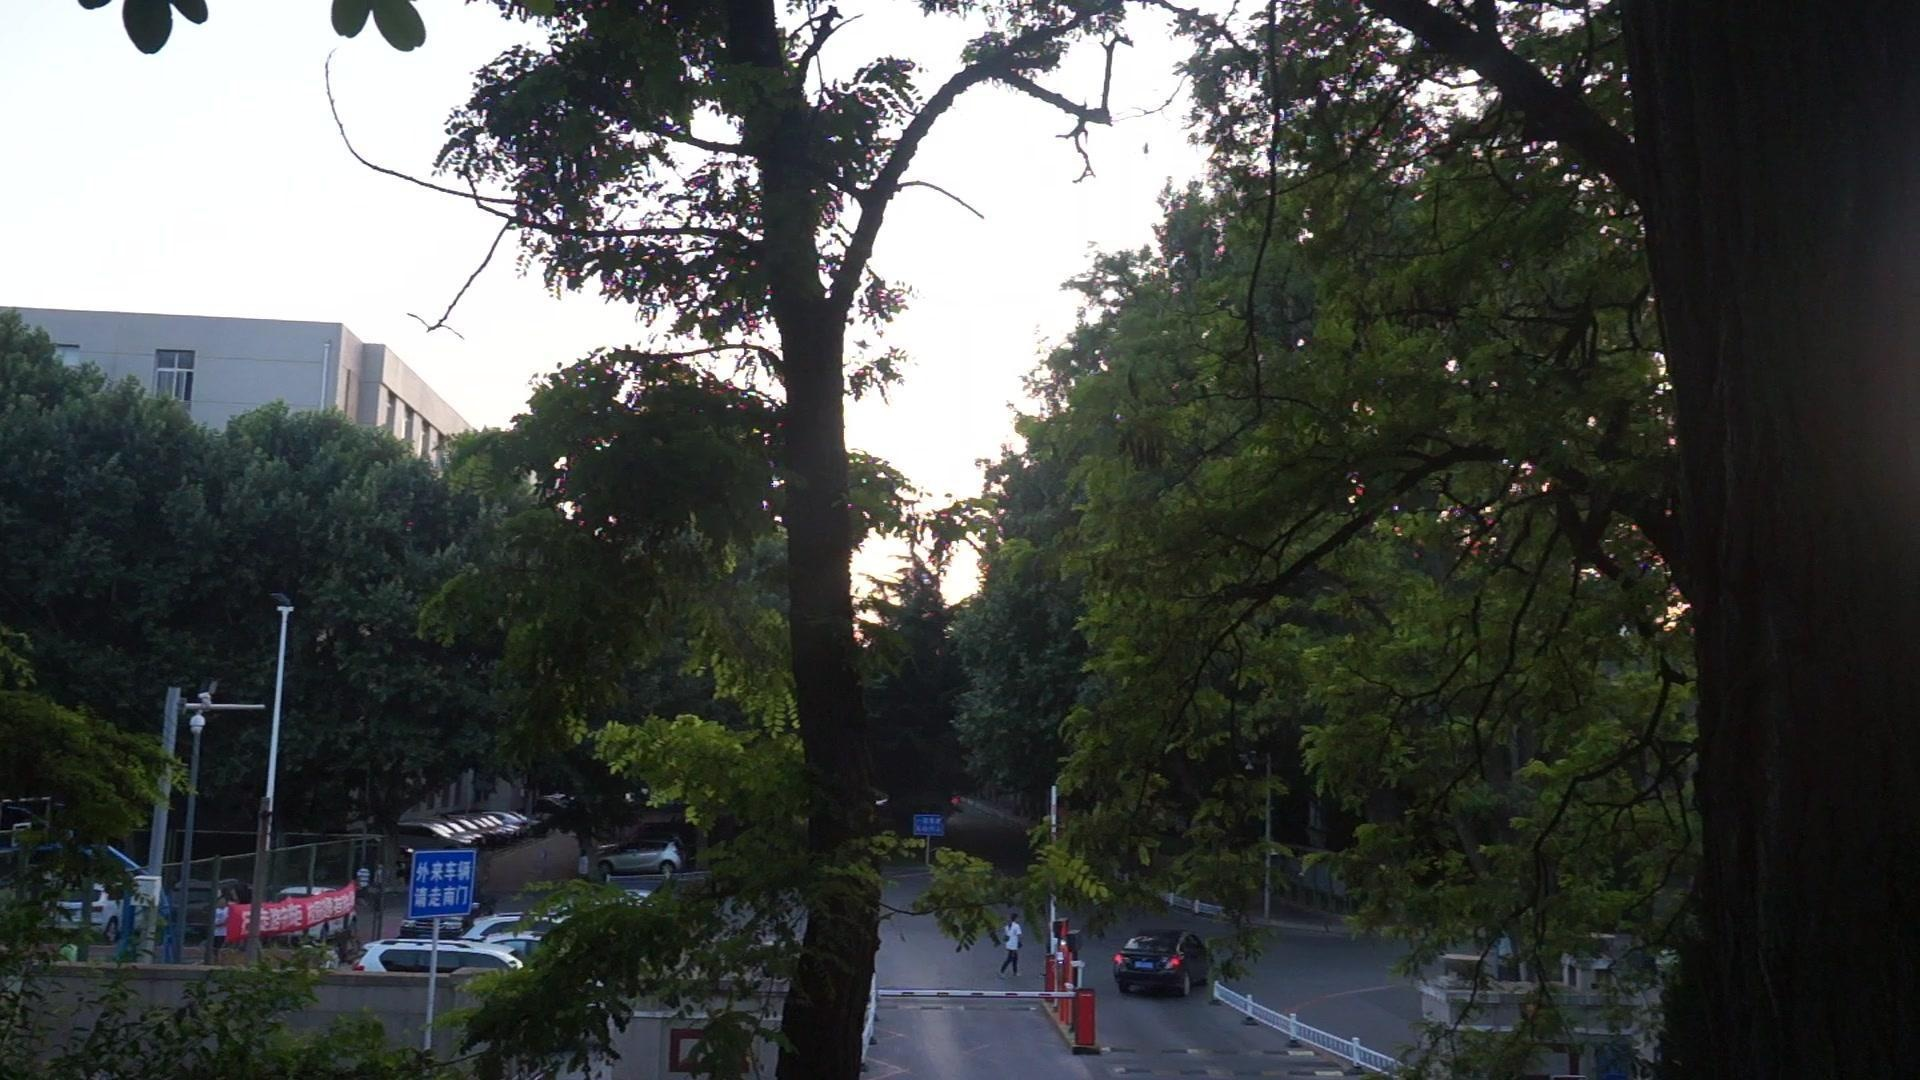UAV: (855, 340, 873, 349)
